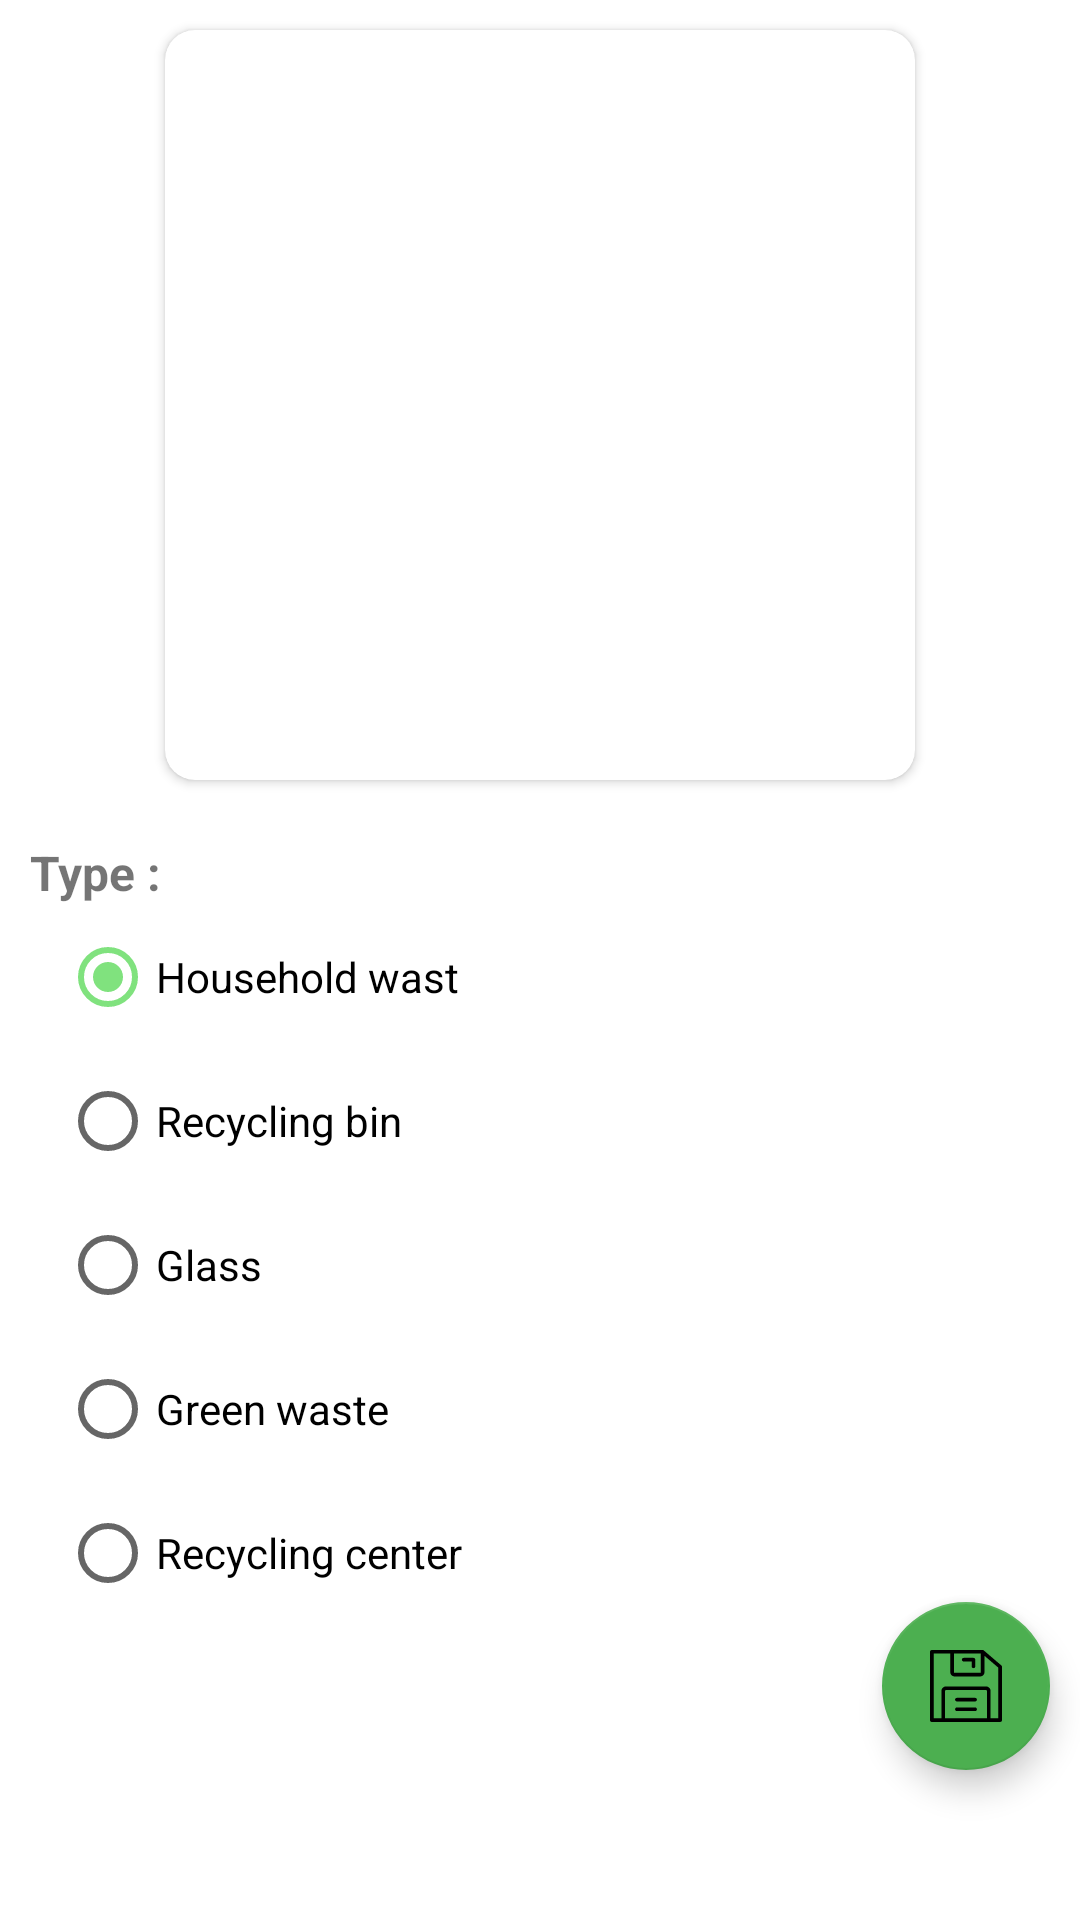

Named icons in this screenshot (1080 x 1920) and their centers, [x,y]:
save: [966,1686]
